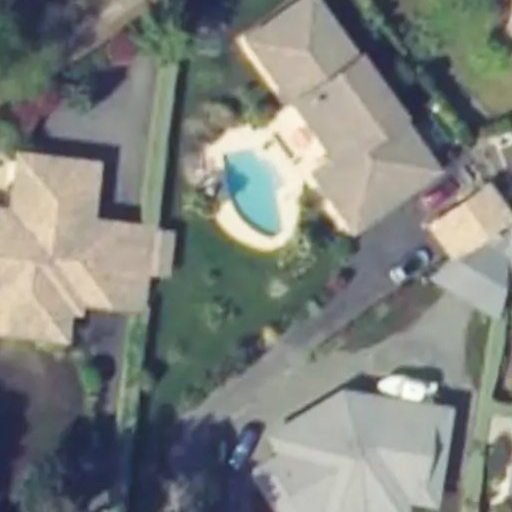pool: (219, 149, 291, 240)
